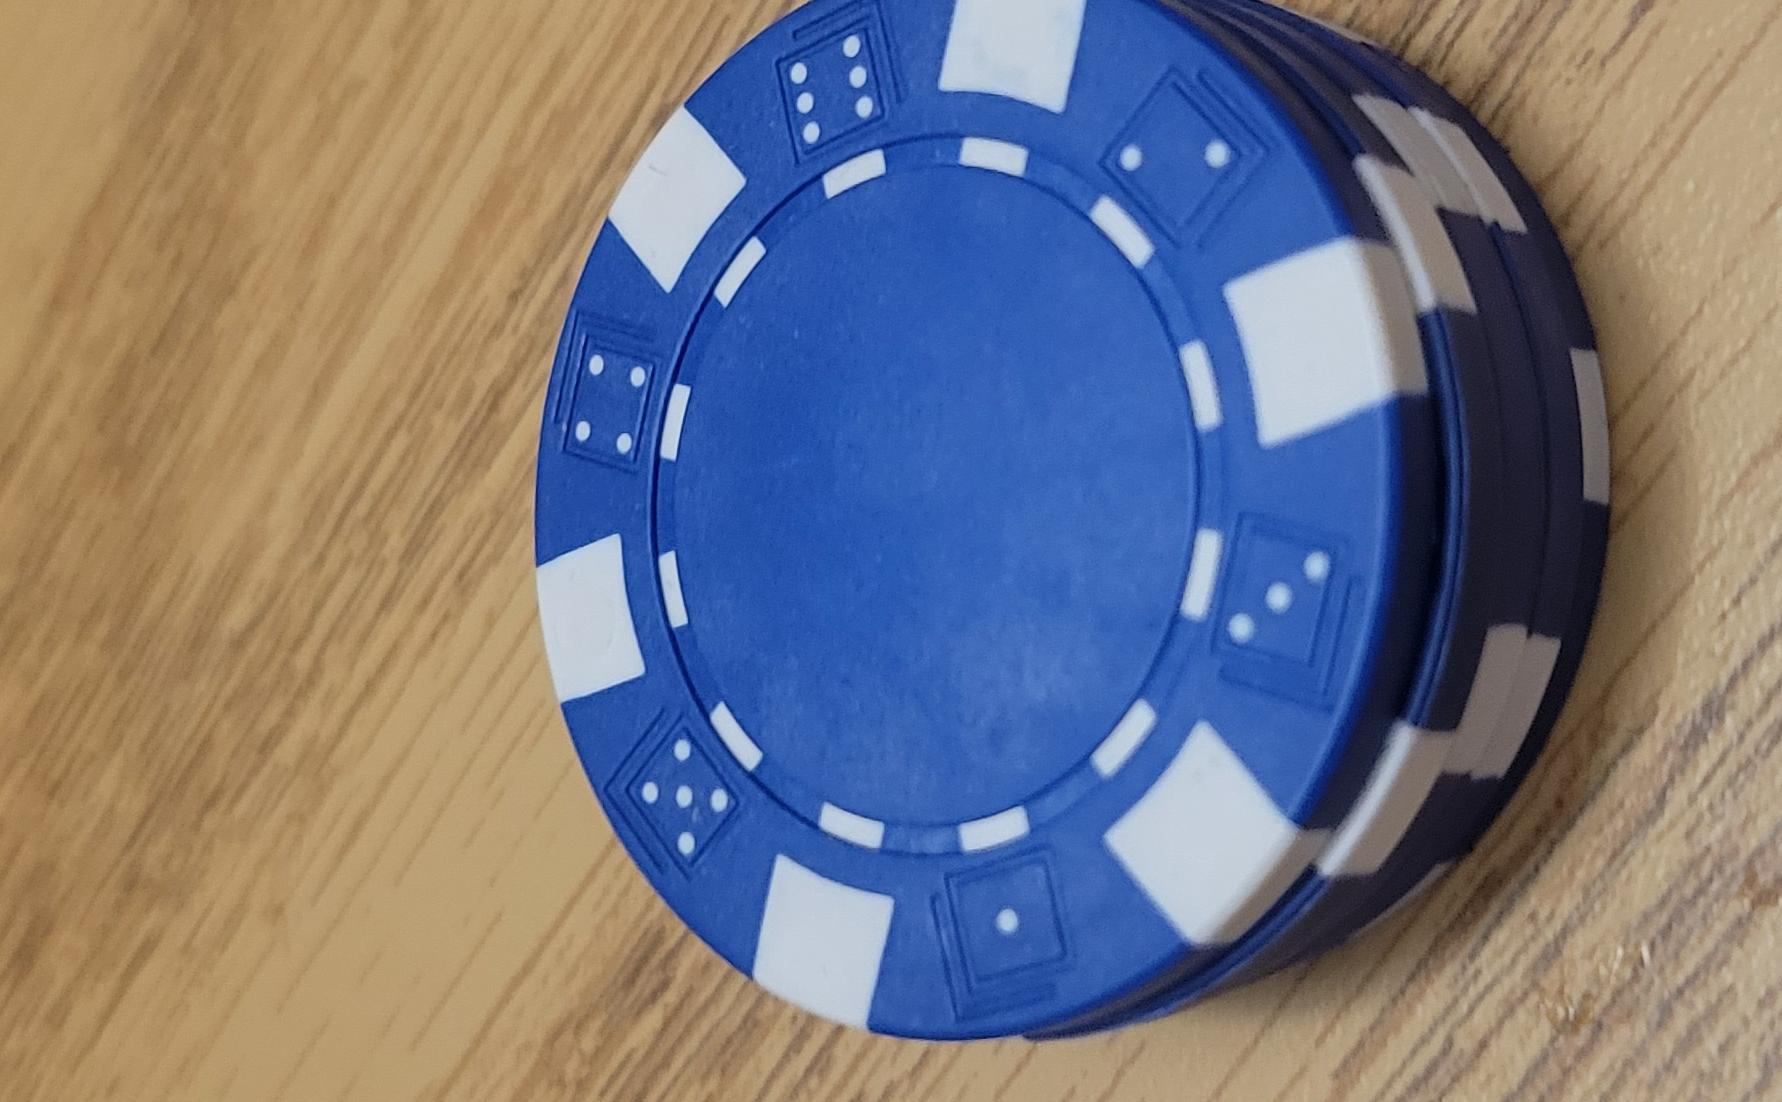Chip: (1, 345, 1070, 1102)
